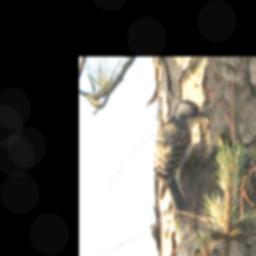Woodpecker: (153, 99, 211, 215)
